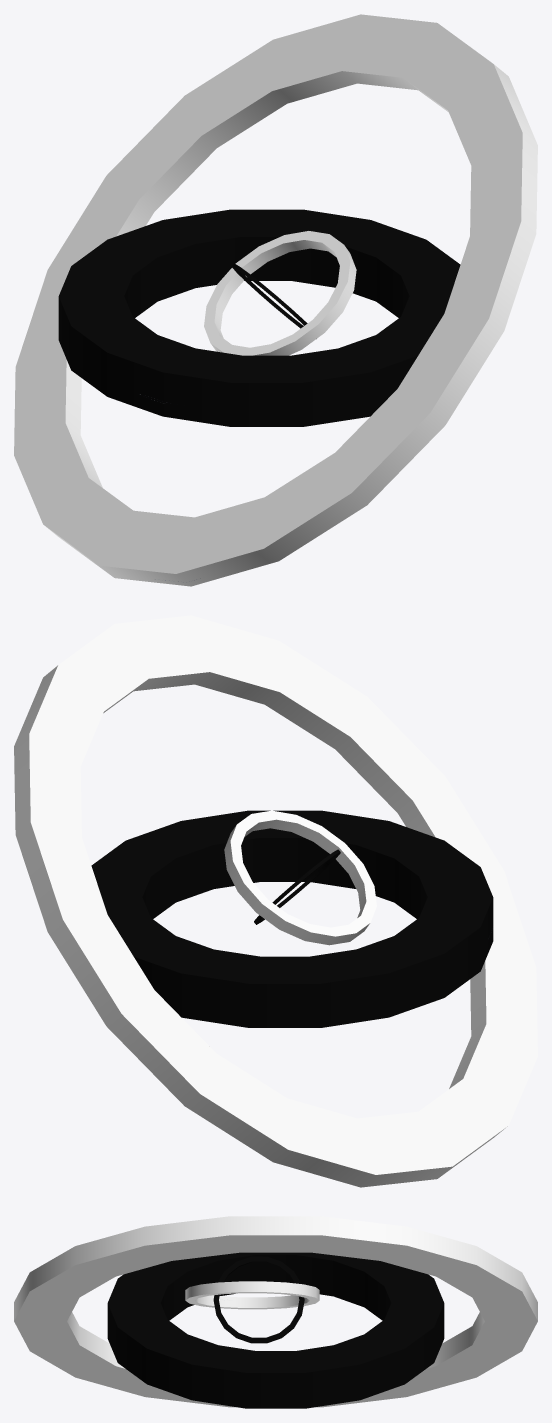
File: plus.FBX
The picture shows the model from 3 angles, top to bottom: view 1: azimuth 30°, elevation 25°; view 2: azimuth 150°, elevation 25°; view 3: azimuth 270°, elevation 25°; orthographic projection. The views are drawn at different scales.
Visible parts, largest first — view 1: Tube002, Tube001, Tube003, Tube004; view 2: Tube002, Tube001, Tube003, Tube004; view 3: Tube002, Tube001, Tube003, Tube004.
Boxes of the visible parts, box(x1,y1,x2,y2) form: Tube002: box(14, 14, 537, 586); Tube001: box(58, 209, 460, 426); Tube003: box(204, 231, 356, 355); Tube004: box(232, 263, 307, 328); Tube002: box(14, 615, 537, 1187); Tube001: box(91, 810, 493, 1027); Tube003: box(224, 810, 376, 945); Tube004: box(254, 849, 340, 924); Tube002: box(14, 1216, 537, 1407); Tube001: box(107, 1252, 444, 1408); Tube003: box(185, 1281, 319, 1309); Tube004: box(213, 1256, 304, 1343).
Bounding box in the file's own units: 16.72 × 16.44 × 22.91.
2 materials, 2 textured.
